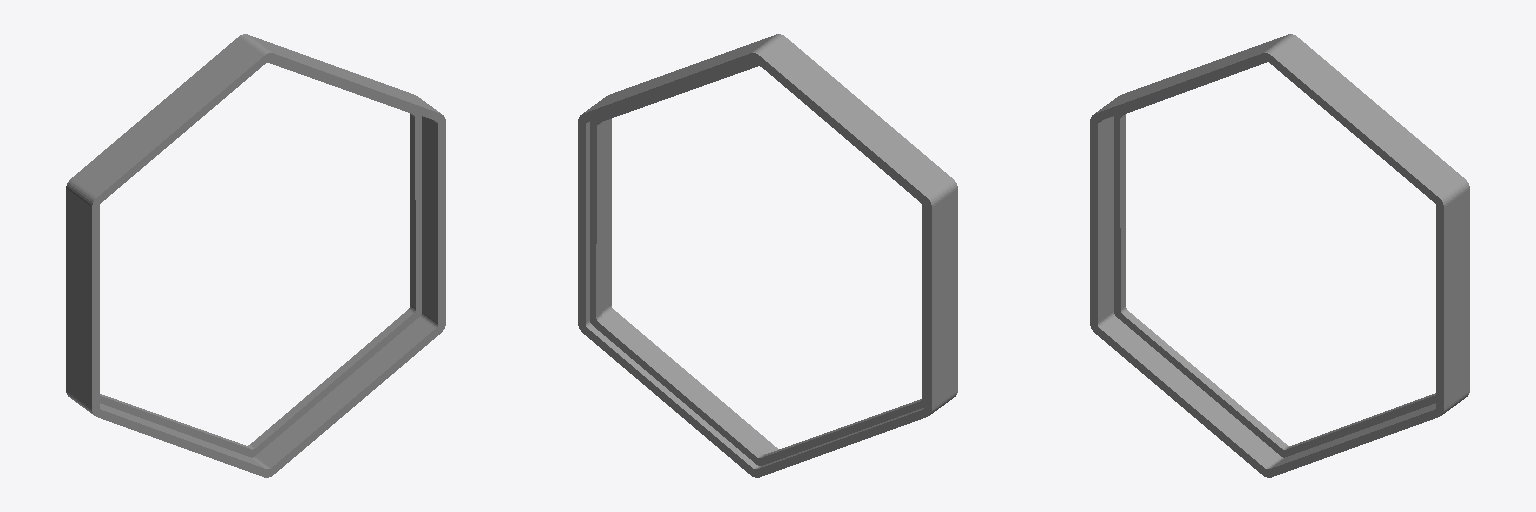
File: gimbal_limit_uniform.obj
3 renders of one model, left to right at view 1: azimuth 30°, elevation 25°; view 2: azimuth 150°, elevation 25°; view 3: azimuth 330°, elevation 25°, orthographic.
Visible parts, largest first — view 1: GimbalLimit.001; view 2: GimbalLimit.001; view 3: GimbalLimit.001.
Boxes of the visible parts, box(x1,y1,x2,y2) form: GimbalLimit.001: box(66, 34, 445, 477); GimbalLimit.001: box(578, 34, 957, 477); GimbalLimit.001: box(1090, 34, 1469, 477).
Size of the model in its own units: 189 by 217 by 24.